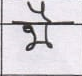ai_matra: (27, 1, 54, 22)
